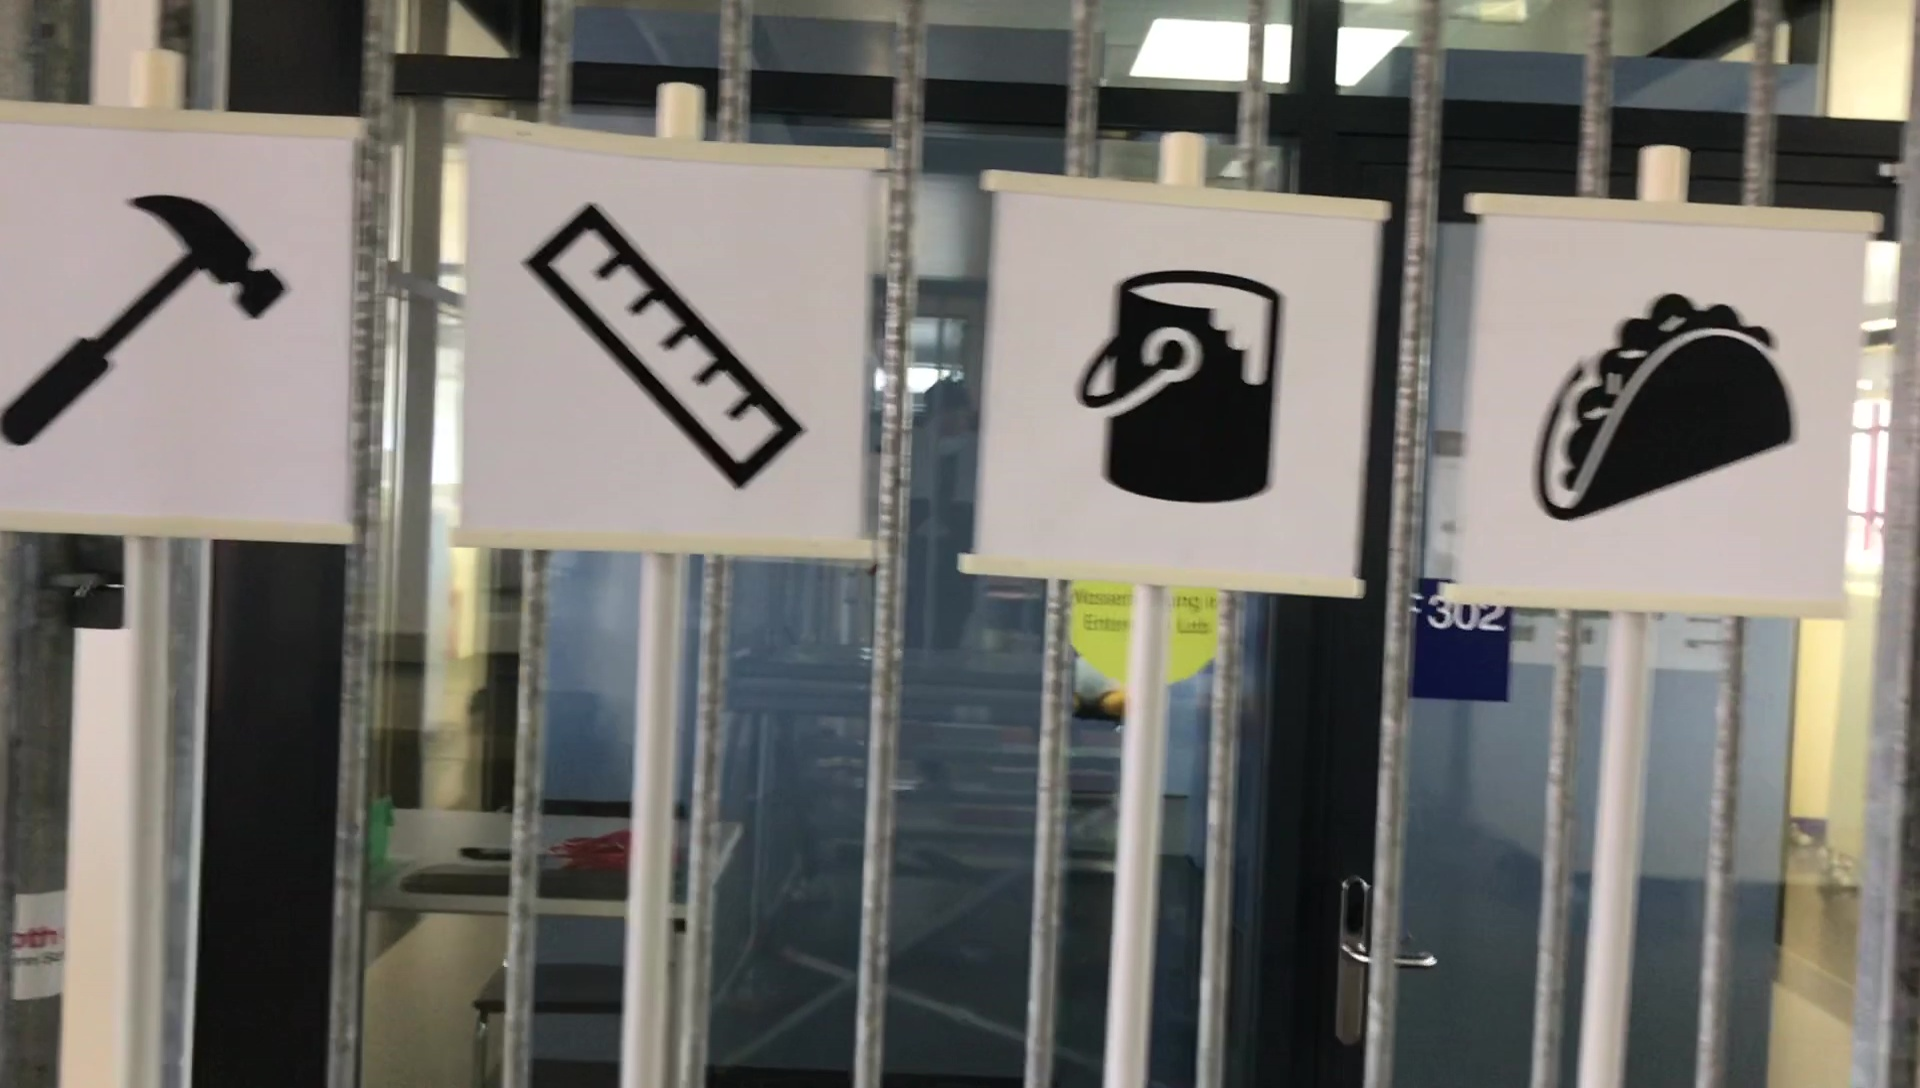bucket: (1067, 243, 1305, 506)
hammer: (0, 169, 299, 454)
ruler: (502, 193, 848, 499)
taco: (1534, 285, 1811, 531)
